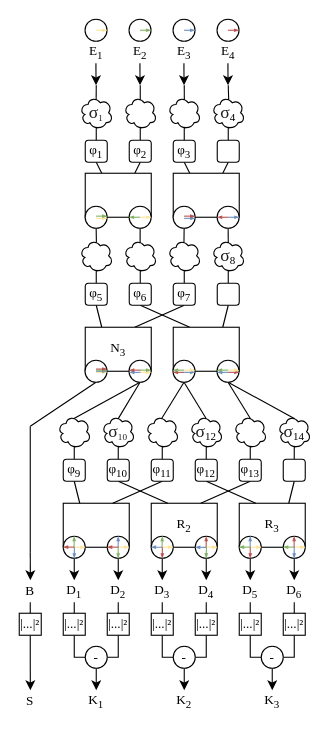
Image size: 330x732. Some labels were removed from this diagram. Here are the shapes that lost their labels. From the top down, the box of each, then its label:
(123, 95, 157, 129): σ 2
(167, 95, 201, 129): σ 3
(216, 139, 239, 162): φ 4
(84, 172, 151, 217): N 1
(172, 172, 239, 217): N 2
(79, 238, 113, 272): σ 5
(123, 238, 157, 272): σ 6
(167, 238, 201, 272): σ 7
(216, 282, 239, 305): φ 8
(172, 326, 239, 371): N 4
(57, 414, 91, 448): σ 9
(145, 414, 179, 448): σ 11
(233, 414, 267, 448): σ 13
(282, 458, 305, 481): φ 14
(62, 502, 129, 547): R 1
